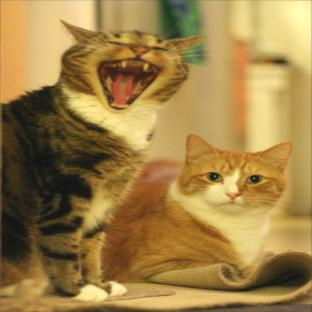Animal: (0, 21, 291, 302)
